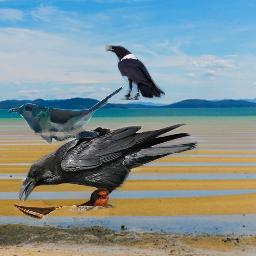Crow: (19, 123, 199, 211), (105, 45, 165, 100)
Cuckoo: (8, 85, 127, 144)
Swallow: (14, 188, 109, 222)
